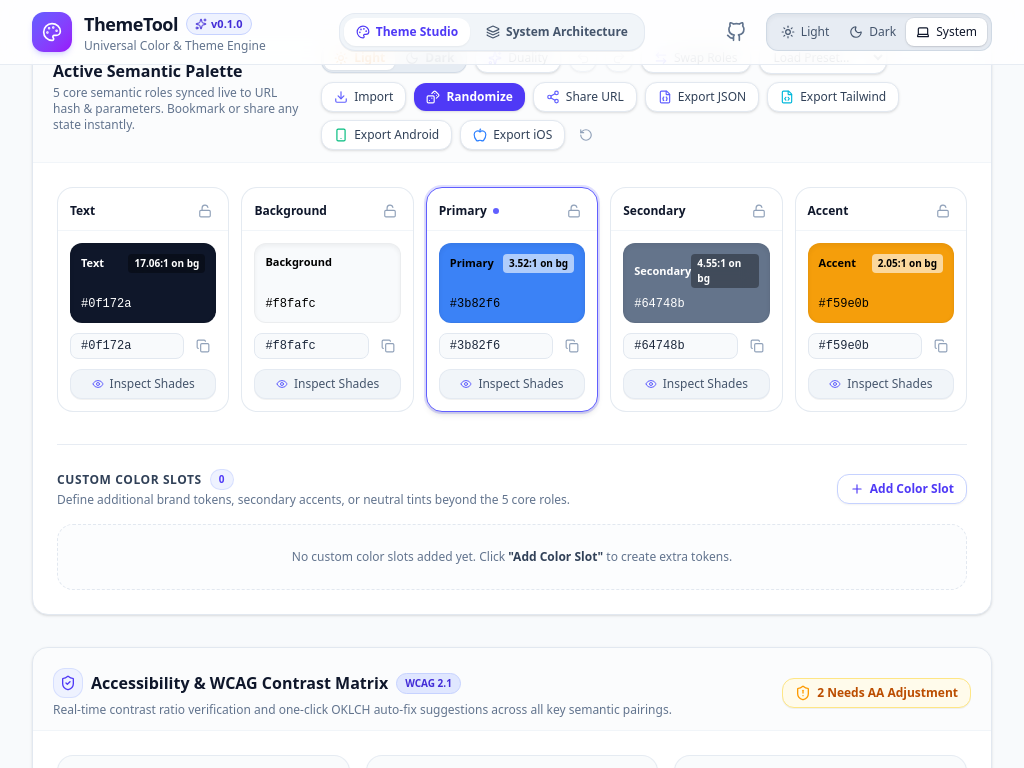
Scenario: ThemeTool Shell & UI Integration › allows clicking presets and toggling anchor modes inside the inspector
(page scrolled)
Click the 1st button "Inspect Shades" at (143,384), box [70,369,216,399]
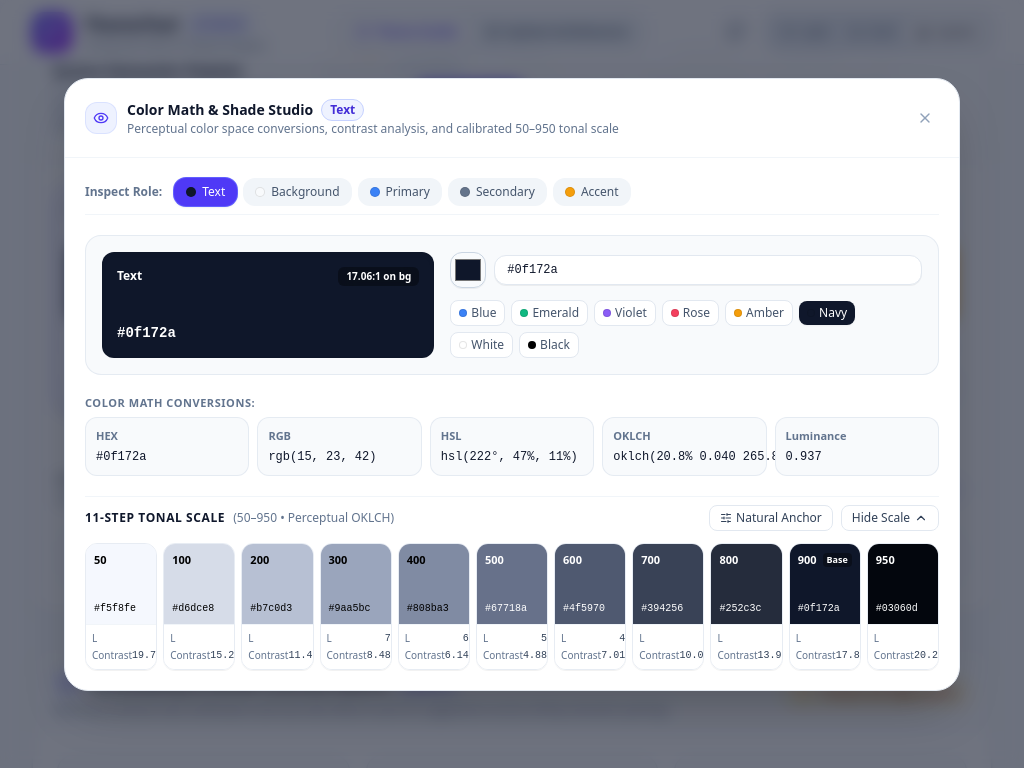
Click the button "Emerald" at (550,312), box [511,300,588,326]
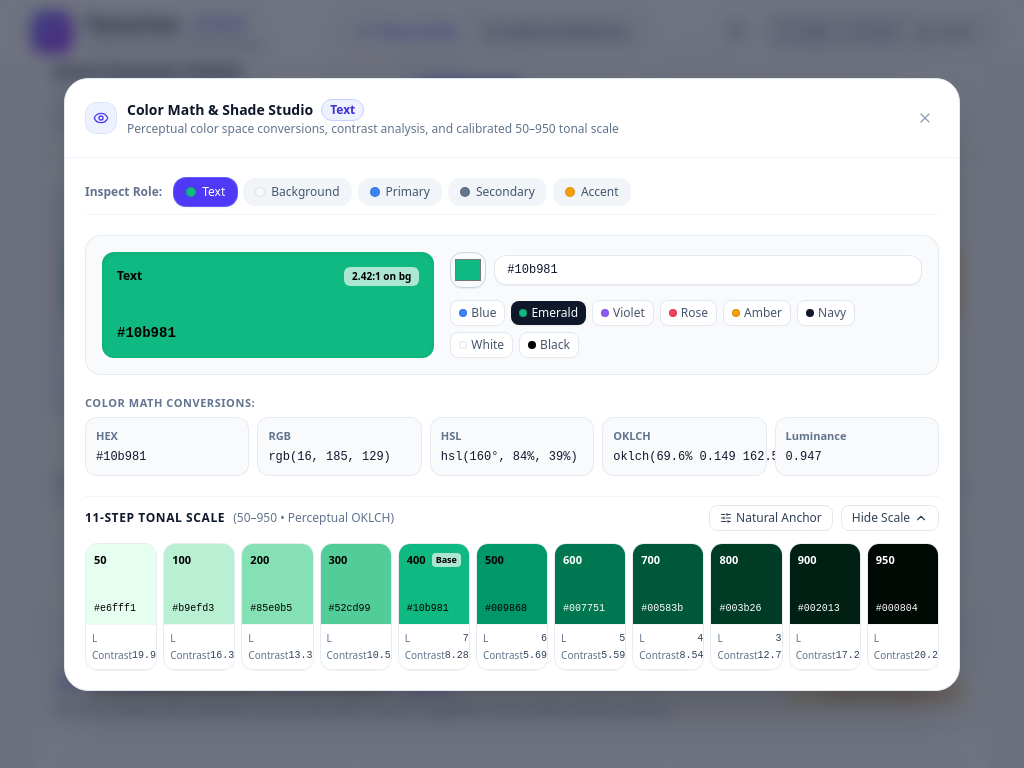
Check: the button "Natural Anchor" is shown
Check: the field named "Hex color value" holds "#10b981", box [494,254,922,284]
Click the button "Natural Anchor" at (771,518), box [709,504,833,530]
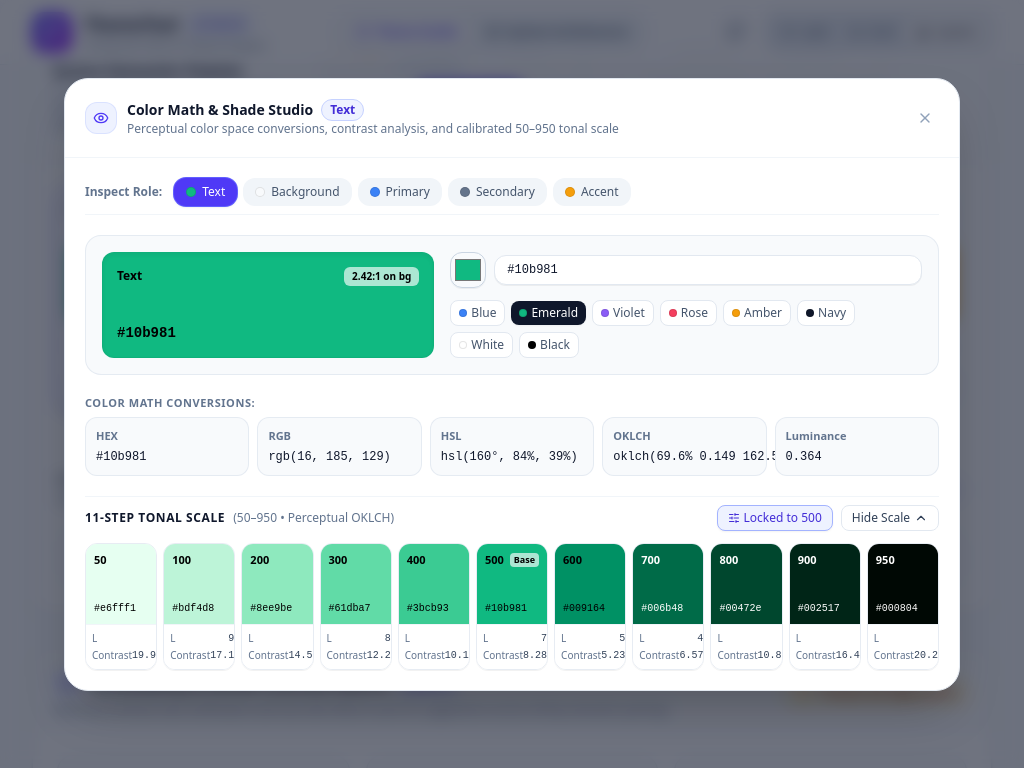
Check: the text "Locked to 500" is shown, box [744,510,822,526]
